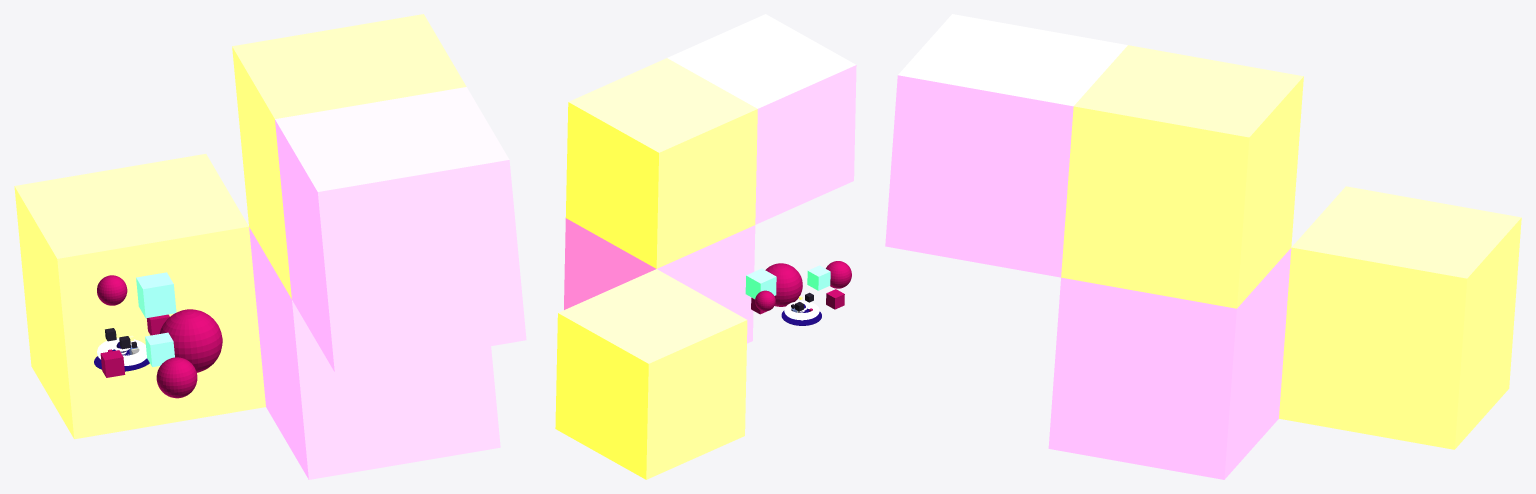
Rendered from good_4.gltf.
The picture shows the model from 3 angles, left to right: view 1: azimuth 30°, elevation 25°; view 2: azimuth 150°, elevation 25°; view 3: azimuth 270°, elevation 25°; orthographic projection. The views are drawn at different scales.
Parts seen in each view (by area): view 1: Cube.017, Cube.014, Cube.016, Cube.015, Sphere.006, Cube.013, Sphere.007, Cube.018, Sphere.008, Torus.002, Cube.011; view 2: Cube.014, Cube.015, Cube.017, Cube.016, Sphere.006, Cube.013, Sphere.007, Cube.018, Torus.002, Sphere.008; view 3: Cube.014, Cube.015, Cube.017, Cube.016.
Boxes of the visible parts, x1,y1,x2,y2 form: Cube.017: (275,87,526,372); Cube.014: (14,154,265,439); Cube.016: (249,227,500,479); Cube.015: (232,14,466,298); Sphere.006: (159,309,222,372); Cube.013: (136,272,176,318); Sphere.007: (156,357,197,398); Cube.018: (145,332,174,366); Sphere.008: (97,275,127,305); Torus.002: (97,338,146,365); Cube.011: (100,350,125,377); Cube.014: (555,269,747,479); Cube.015: (565,58,757,268); Cube.017: (667,14,856,224); Cube.016: (564,218,755,343); Sphere.006: (765,263,802,306); Cube.013: (745,268,776,298); Sphere.007: (826,261,851,288); Cube.018: (807,265,830,290); Torus.002: (784,301,819,320); Sphere.008: (755,290,775,311); Cube.014: (1279,186,1521,449); Cube.015: (1061,45,1303,308); Cube.017: (885,14,1127,277); Cube.016: (1048,248,1291,479).
Size of the model in its own units: 814 by 829 by 1251.
